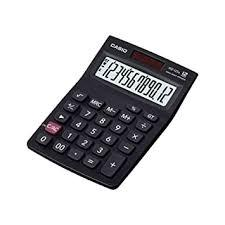Calculator: (24, 23, 202, 198)
